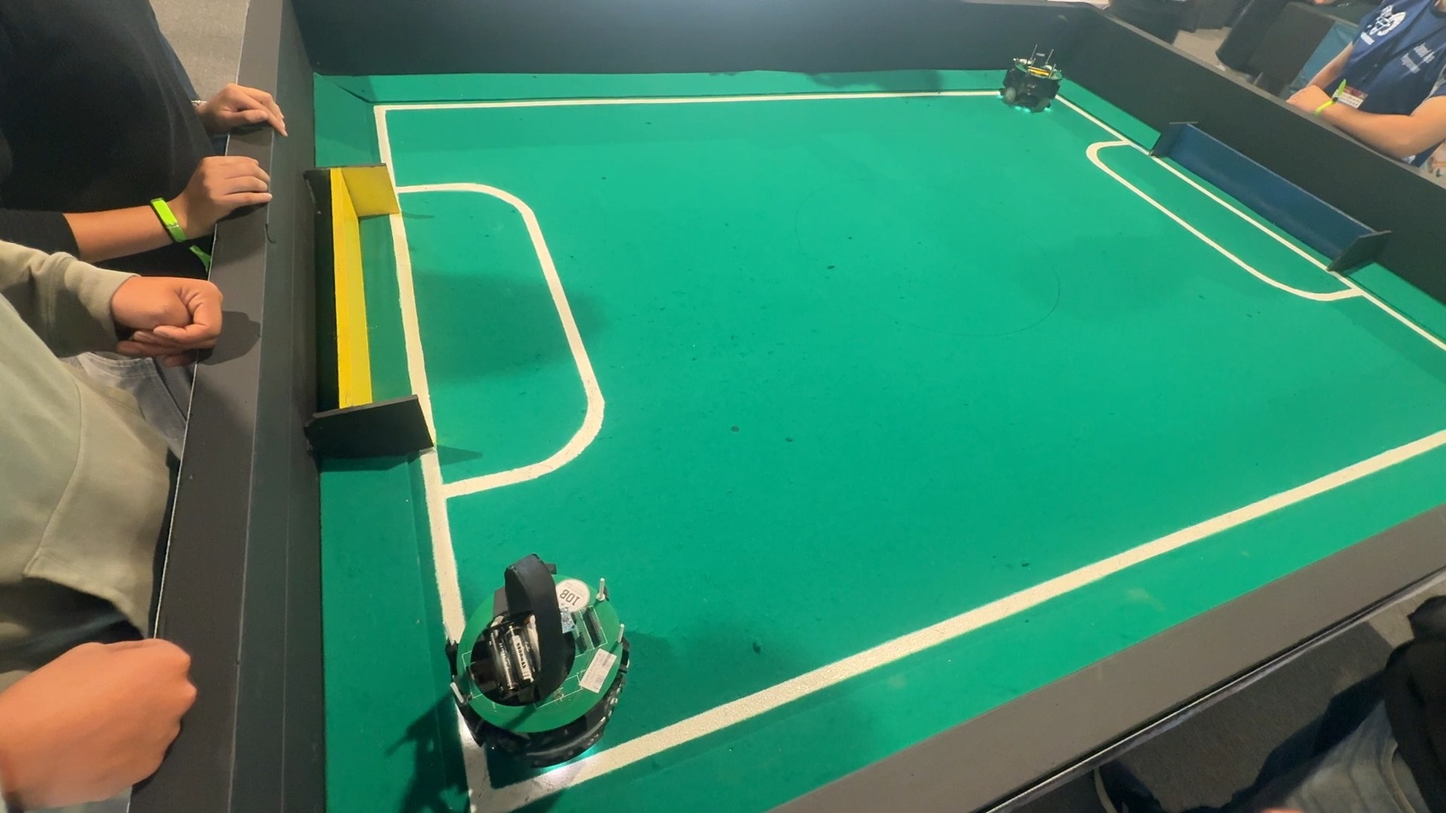Robot: (399, 547, 668, 813)
